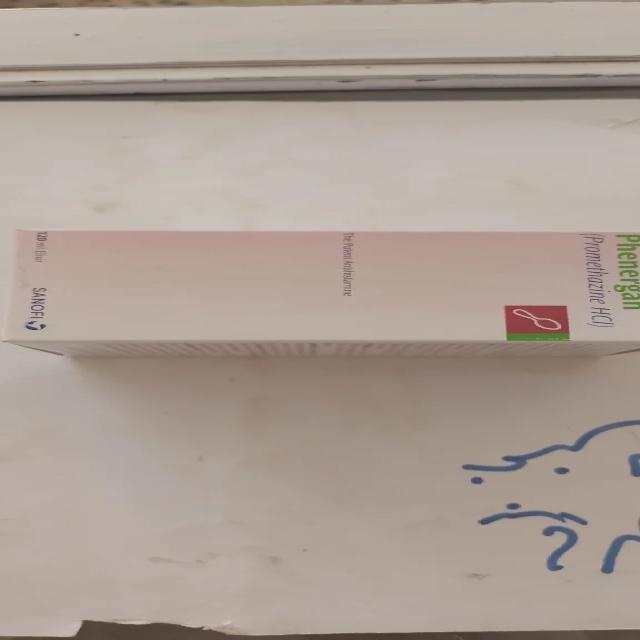drug-name: (613, 236, 640, 310)
